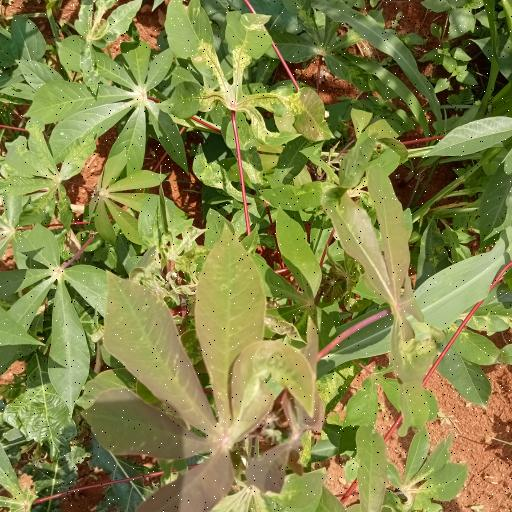Cassava_Healthy: (89, 225, 317, 512), (0, 223, 145, 399), (28, 33, 188, 174)
Cassava_Mosaic: (170, 4, 337, 146)
